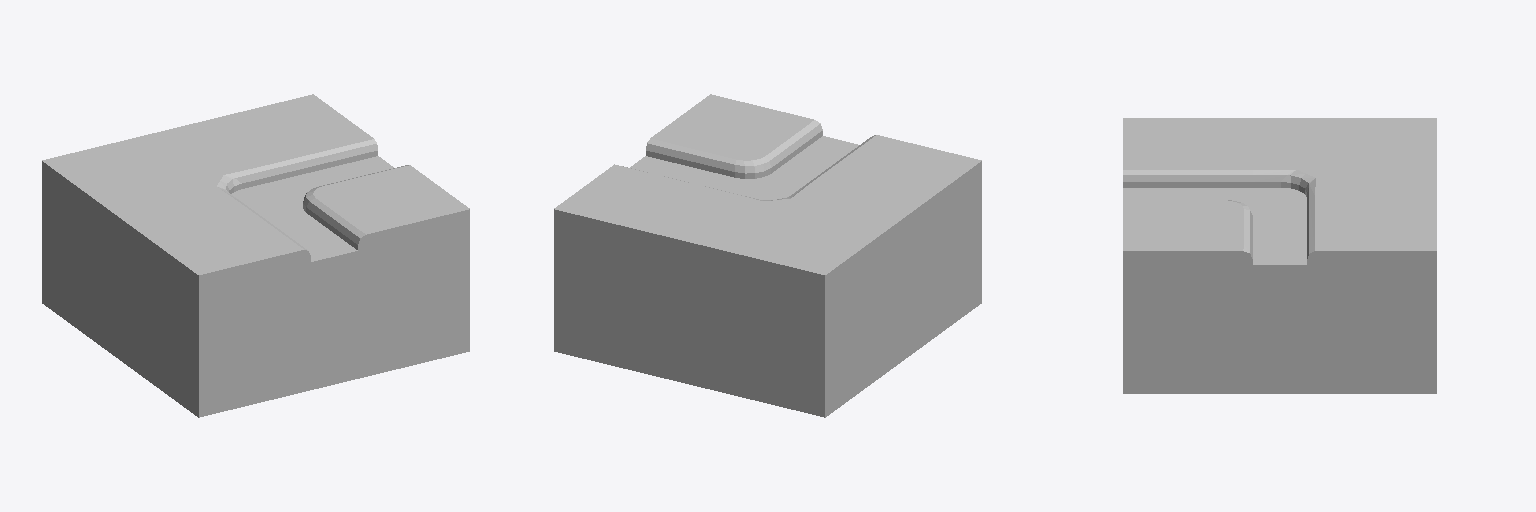
File: square_forest_roadC.obj
3 renders of one model, left to right at view 1: azimuth 30°, elevation 25°; view 2: azimuth 150°, elevation 25°; view 3: azimuth 270°, elevation 25°, orthographic.
Parts seen in each view (by area): view 1: square_forest_roadC_Cube.318; view 2: square_forest_roadC_Cube.318; view 3: square_forest_roadC_Cube.318.
Boxes of the visible parts, <box> form: square_forest_roadC_Cube.318: <box>42,94,469,417</box>; square_forest_roadC_Cube.318: <box>554,94,981,417</box>; square_forest_roadC_Cube.318: <box>1123,118,1436,393</box>.
Bounding box in the file's own units: 2 × 1 × 2.